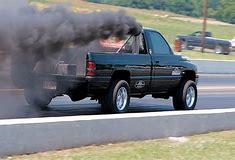smoke: (1, 4, 141, 54)
